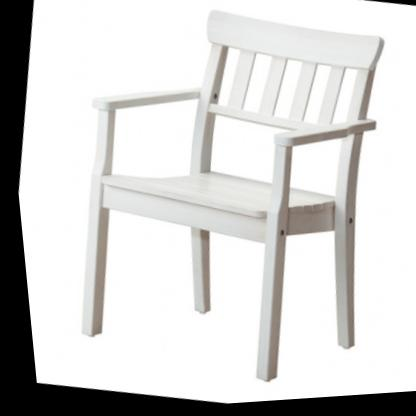Chair: (32, 0, 416, 413)
